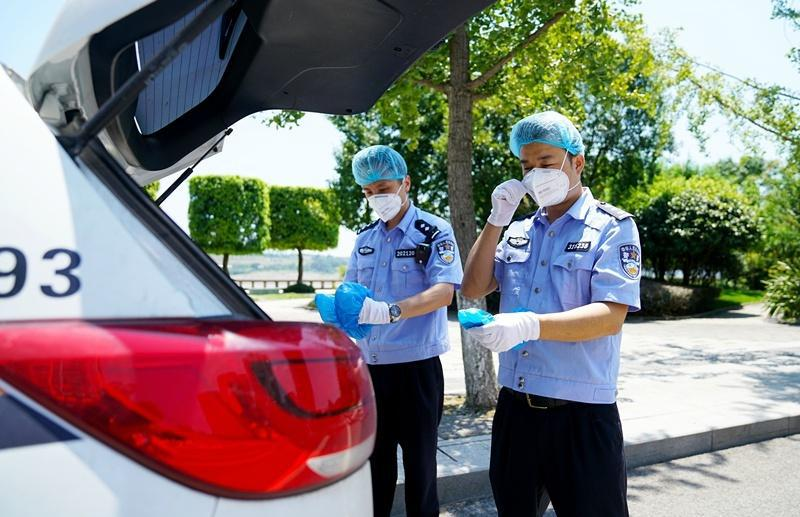OK: (517, 144, 582, 209), (359, 176, 405, 222)
